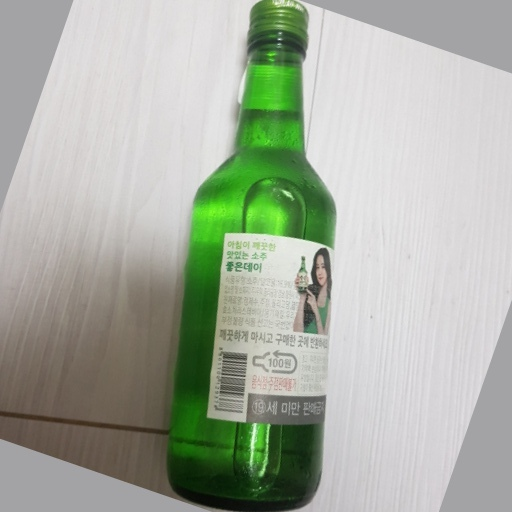Glass_0: (161, 3, 341, 512)
